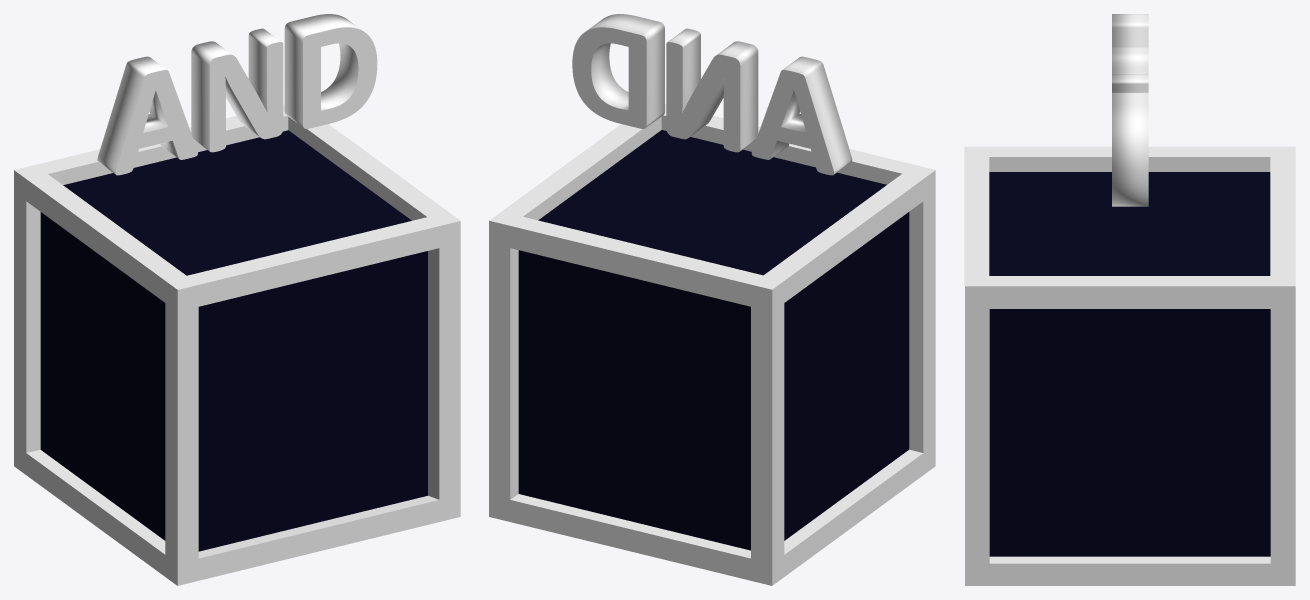
The model's file is AND_Gate.glb.
The picture shows the model from 3 angles, left to right: view 1: azimuth 30°, elevation 25°; view 2: azimuth 150°, elevation 25°; view 3: azimuth 270°, elevation 25°; orthographic projection.
Parts seen in each view (by area): view 1: Cube.001, Text; view 2: Cube.001, Text; view 3: Cube.001, Text.
Part boxes in pixels (x1,y1,x2,y2): Cube.001: (14,104,460,585); Text: (97,14,377,175); Cube.001: (489,104,935,585); Text: (572,14,852,175); Cube.001: (964,146,1295,585); Text: (1112,14,1148,206).
Size of the model in its own units: 2 by 3.03 by 2.
2 materials, 1 textured.
